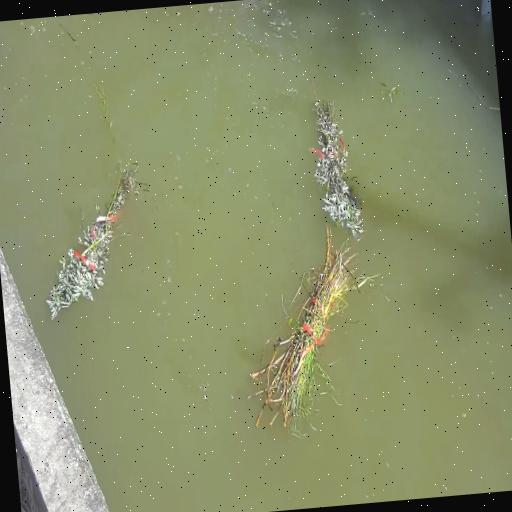twig: (250, 227, 373, 432), (47, 164, 148, 319), (312, 100, 364, 237)
